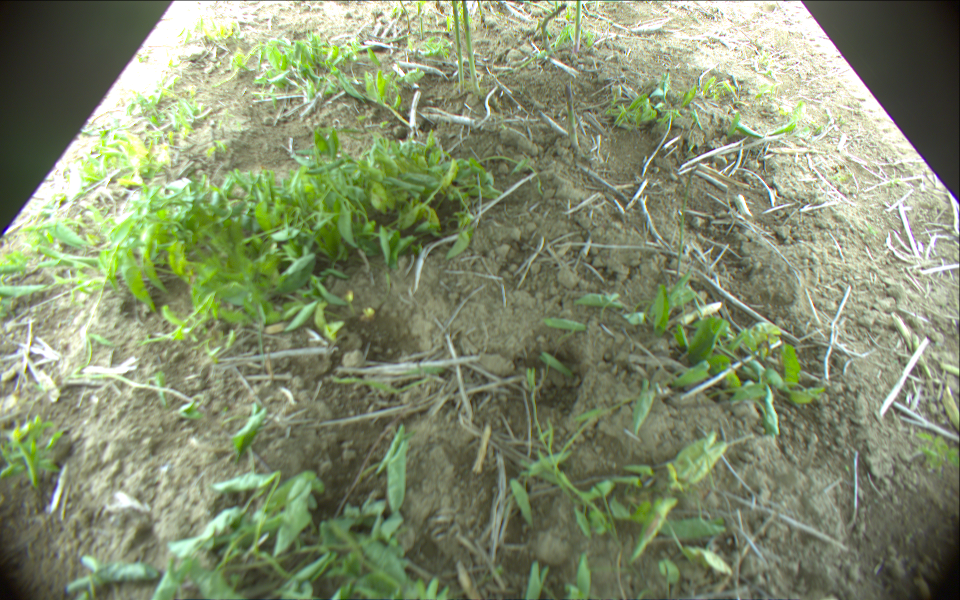aspa: (460, 1, 481, 93), (450, 1, 465, 94), (563, 79, 581, 147), (541, 1, 565, 50), (571, 1, 582, 52), (399, 1, 411, 36), (418, 16, 428, 40)
